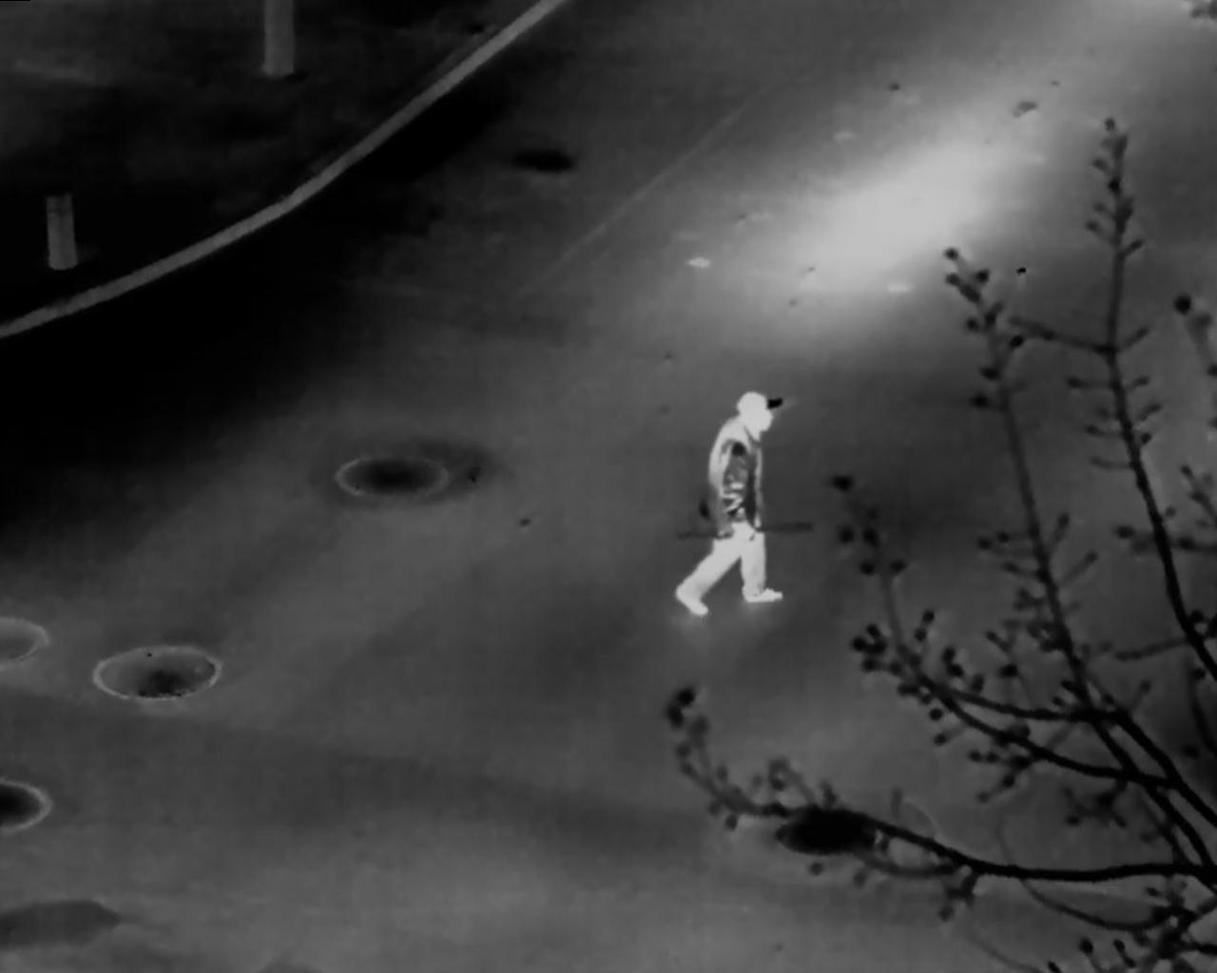person: (671, 391, 791, 618)
